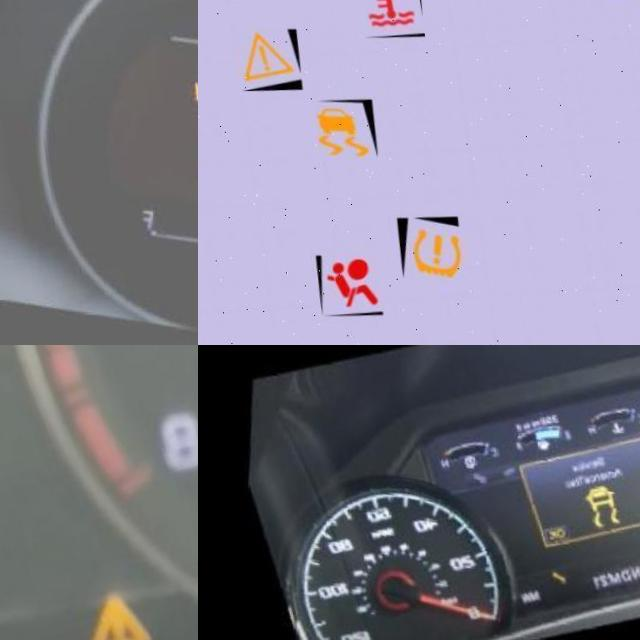Engine cooling system: (598, 422, 616, 438)
Low fuel level: (525, 439, 539, 453)
